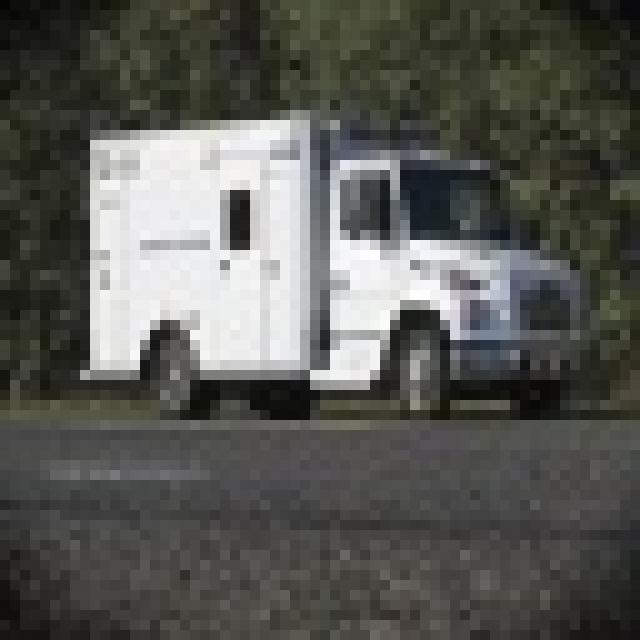Ambulance: (70, 100, 580, 410)
